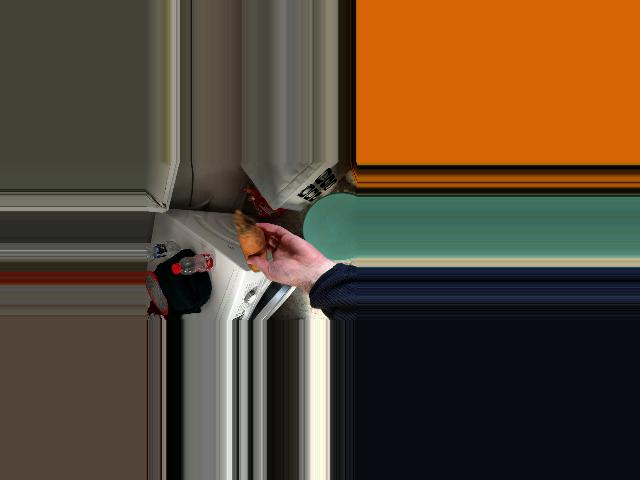sweet_potato: (238, 226, 265, 265)
